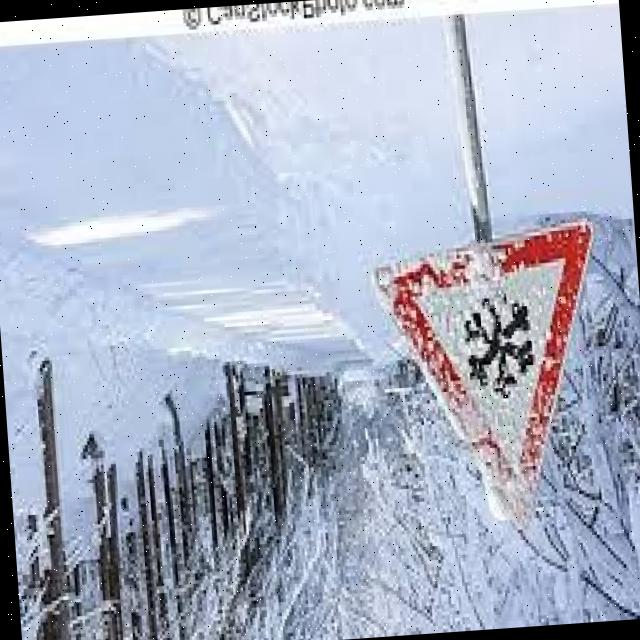snow_warning: (375, 208, 614, 546)
